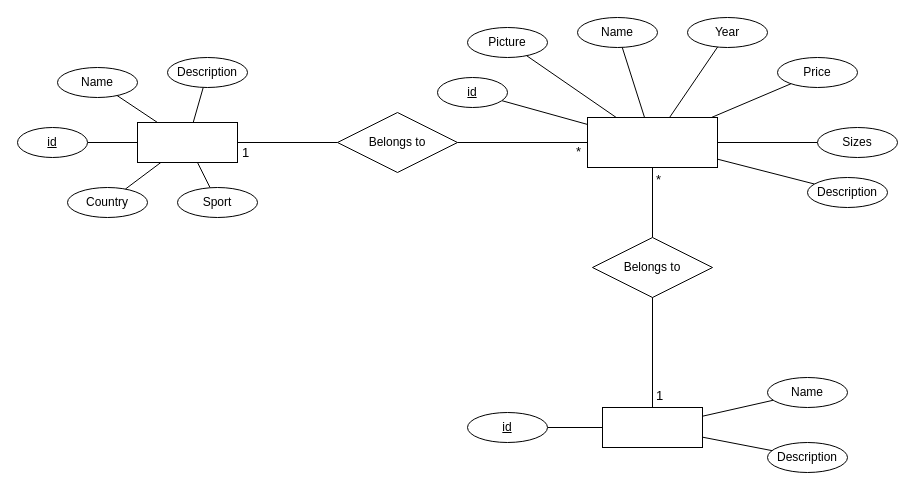
The diagram is 915 pixels wide and 490 high, and some of its shapes have lost their labels. Here are the shapes that lost their labels. From the top down, the box of each, then its label:
(136, 122, 238, 162): Team
(586, 116, 718, 168): Kit
(602, 406, 702, 448): Category
